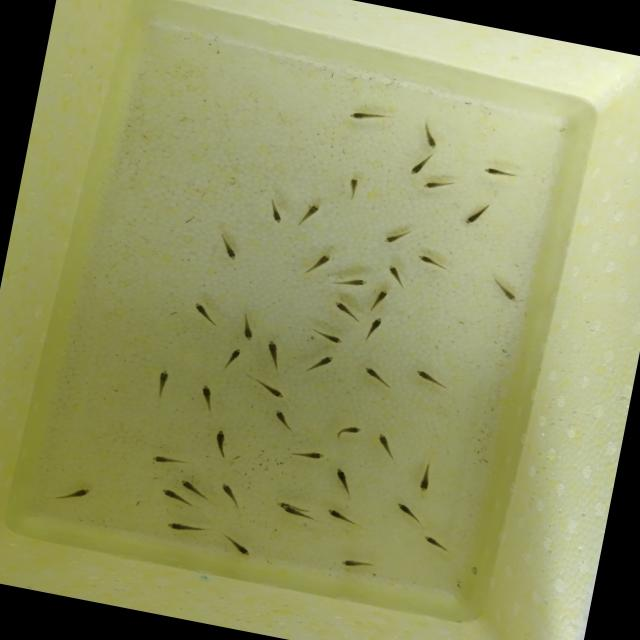fingerling: (405, 363, 453, 393), (248, 375, 292, 404), (158, 514, 208, 539), (220, 534, 264, 562), (54, 478, 94, 508), (340, 105, 392, 128), (459, 198, 494, 232), (302, 247, 338, 280), (258, 335, 289, 373), (293, 198, 327, 232), (209, 228, 243, 262), (190, 381, 224, 415), (409, 460, 441, 496), (484, 276, 524, 304), (303, 348, 340, 378), (270, 500, 320, 522), (416, 528, 455, 556), (232, 310, 262, 346), (390, 499, 430, 526), (286, 443, 329, 468), (207, 425, 236, 462), (304, 327, 352, 349), (258, 196, 292, 227), (332, 553, 378, 575), (326, 419, 364, 445), (144, 449, 190, 470), (328, 466, 358, 498), (326, 298, 364, 323), (149, 364, 173, 403), (414, 120, 444, 151), (190, 298, 220, 329), (370, 431, 400, 462), (359, 314, 389, 344), (268, 406, 300, 434), (219, 343, 246, 376), (378, 225, 412, 251), (322, 504, 360, 527), (358, 364, 394, 388), (480, 163, 522, 183), (411, 253, 452, 273), (414, 176, 456, 195), (382, 261, 408, 291), (215, 481, 243, 507), (176, 476, 208, 498), (337, 274, 371, 294), (408, 152, 433, 178), (366, 288, 391, 314), (342, 176, 364, 205), (156, 486, 178, 500)
